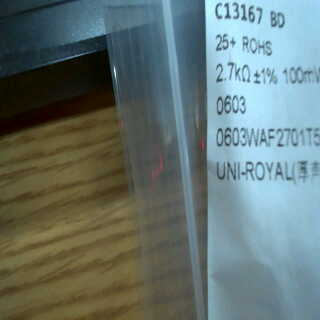2.7kR: (214, 61, 252, 89)
